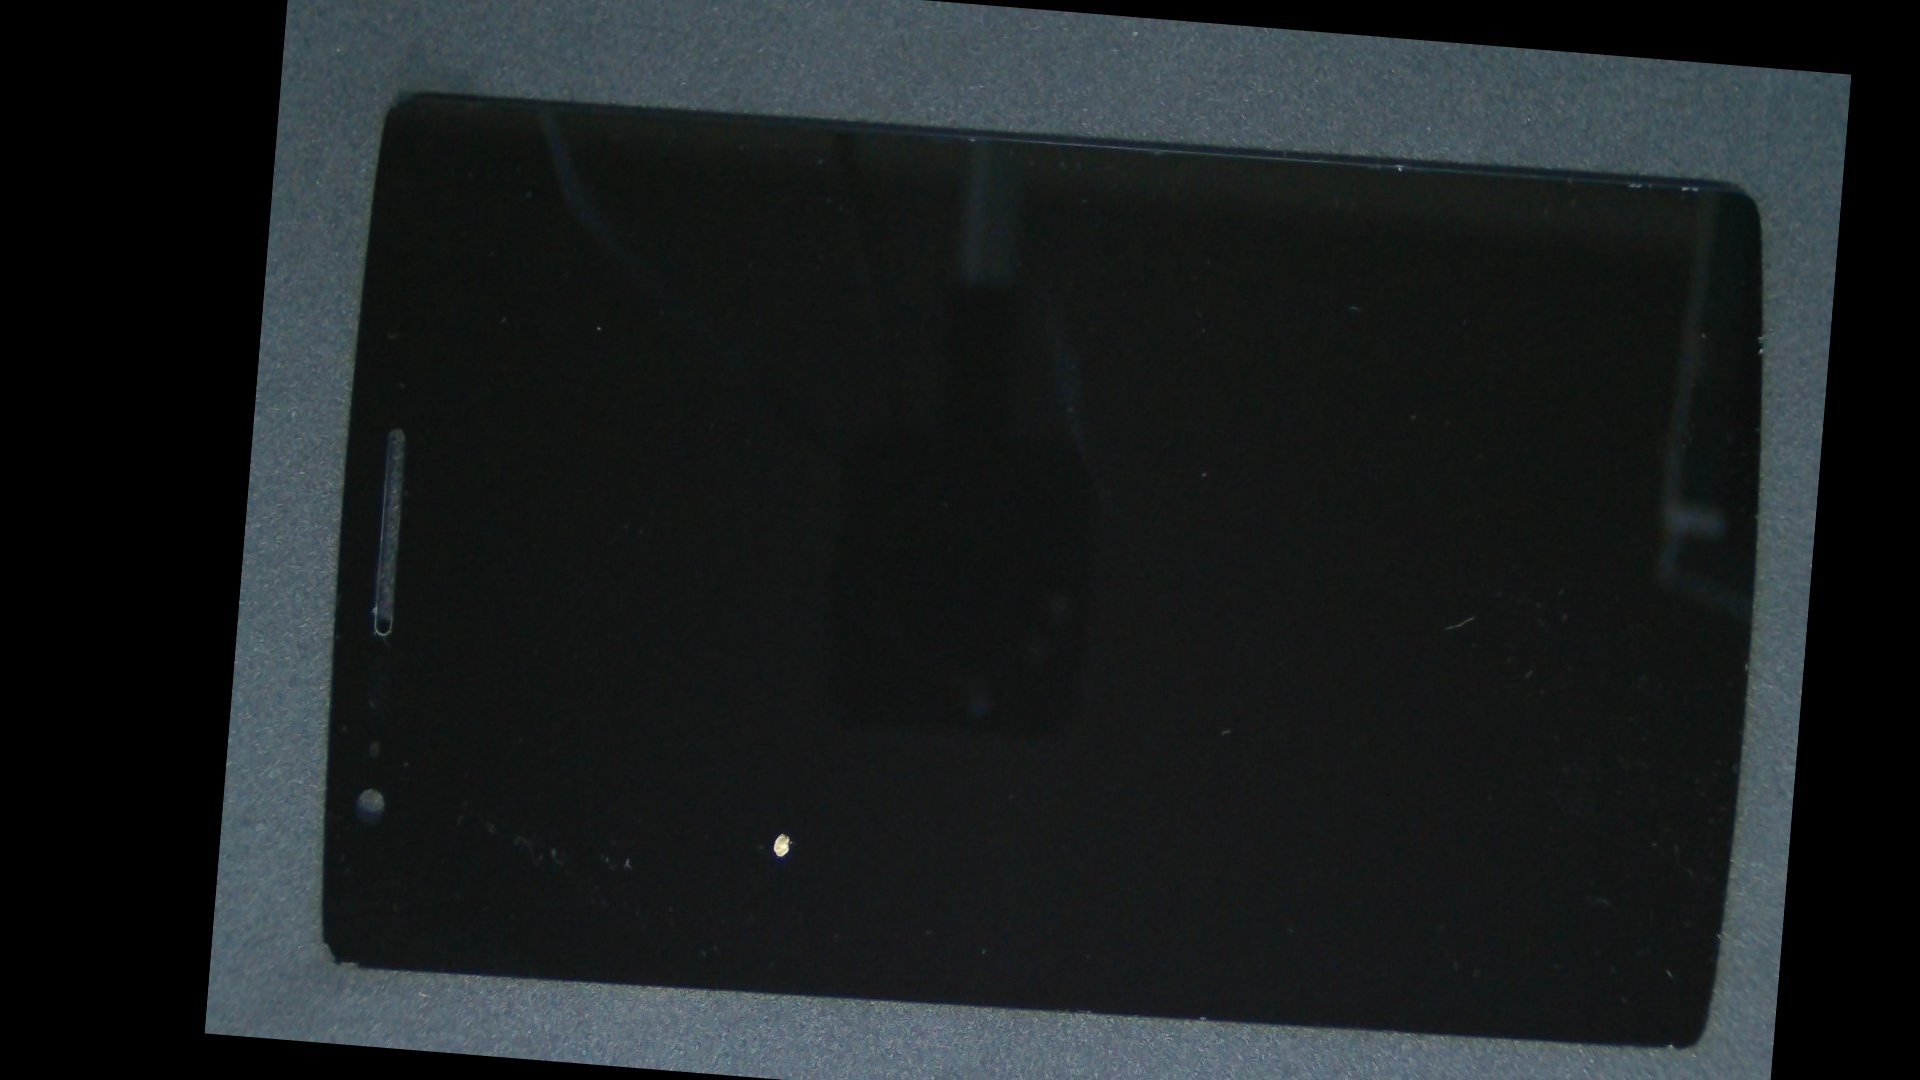oil: (483, 390, 1091, 1080)
